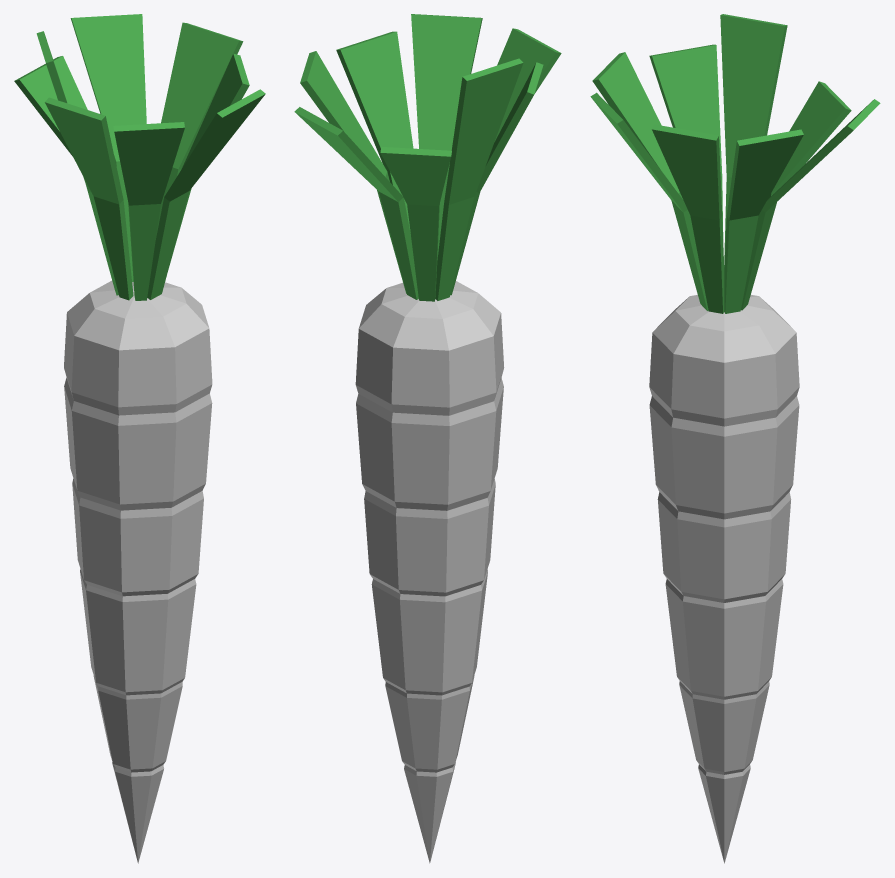
Rendered from Carrot.obj.
3 renders of one model, left to right at view 1: azimuth 30°, elevation 25°; view 2: azimuth 150°, elevation 25°; view 3: azimuth 270°, elevation 25°, orthographic. The views are drawn at different scales.
Size of the model in its own units: 3.15 by 11.74 by 3.82.
